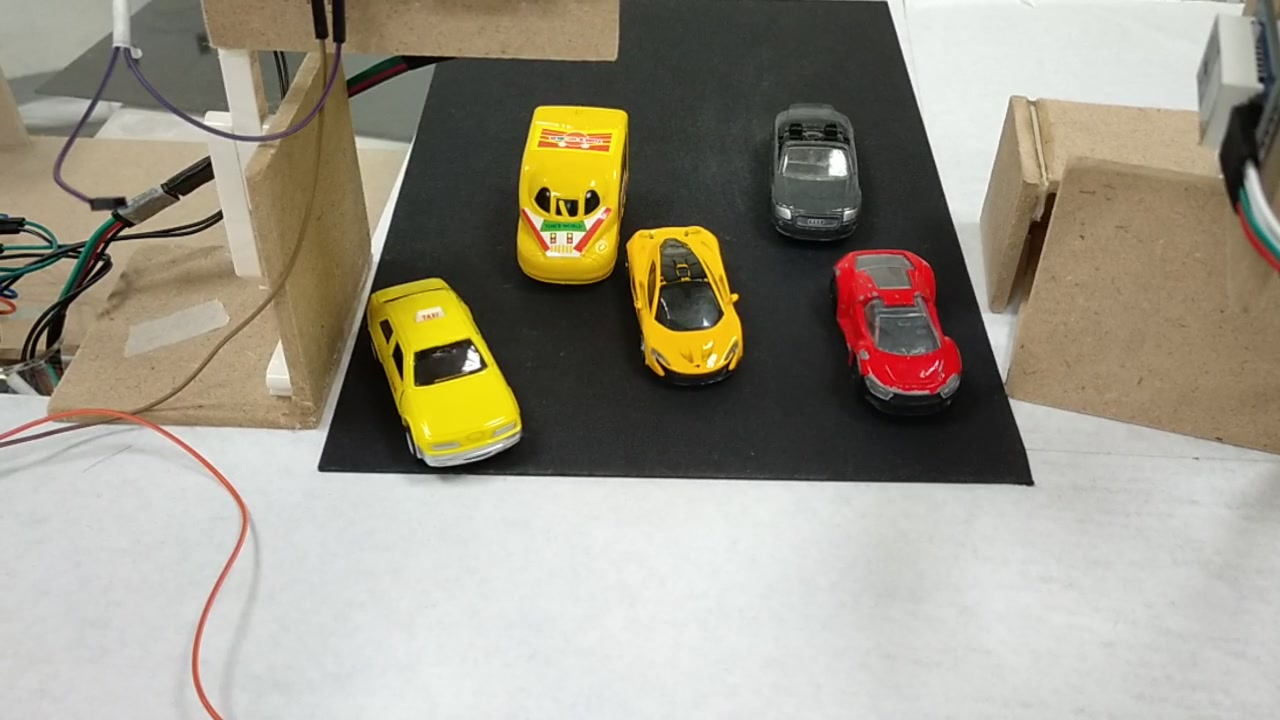car: (362, 288, 528, 461), (837, 250, 961, 409), (623, 233, 744, 385), (770, 104, 858, 241)
